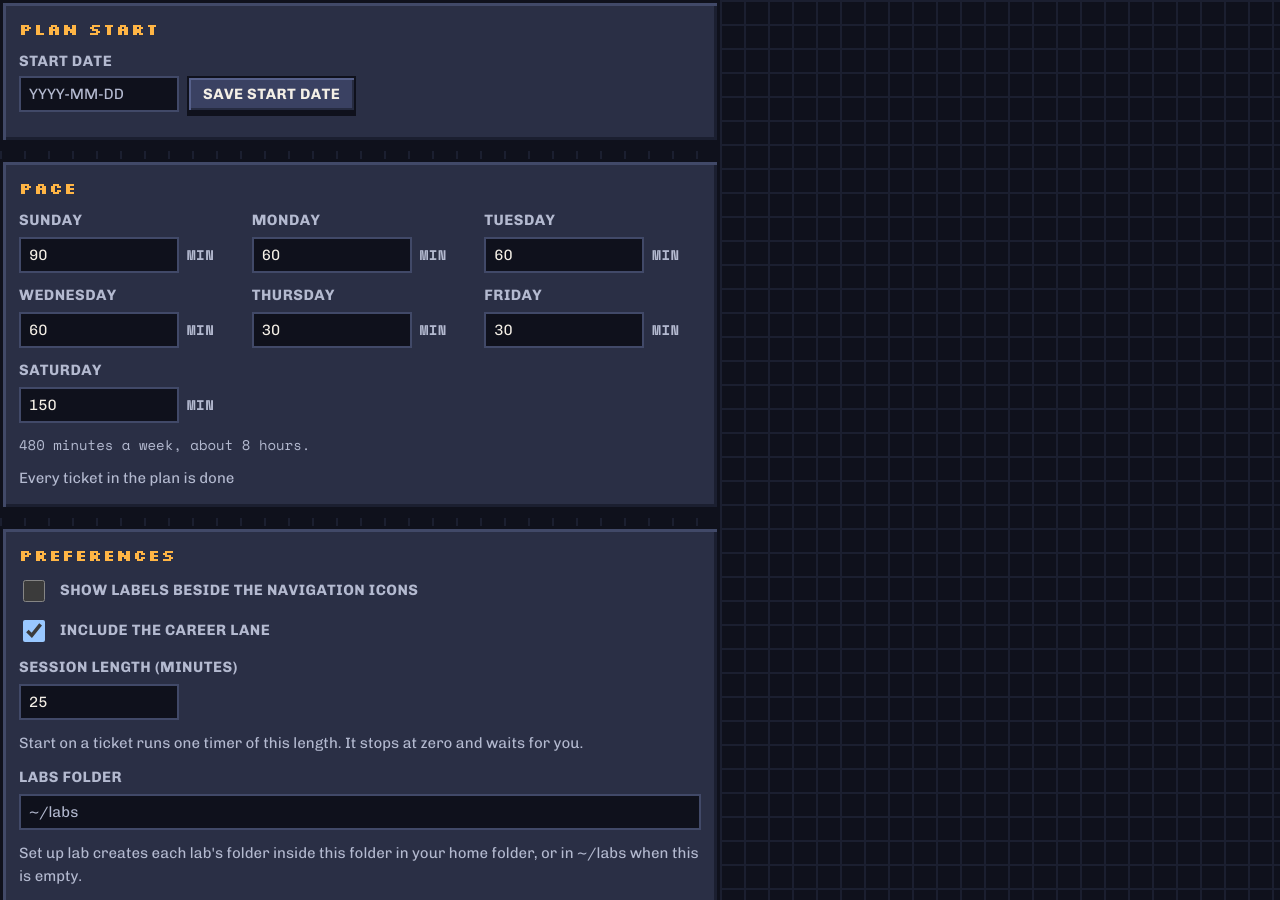
Test: Settings: pace typed key by key (SET-08) › stores nothing while "601" is typed in, though "6" and "60" are valid on the way
This screenshot has width=1280, height=900.
Expected: the element with test id "settings-pace" is shown, [0, 159, 720, 510]
Replace the text in the field with test id "settings-budget-1" with "6": x=332, y=255 [252, 237, 412, 273]
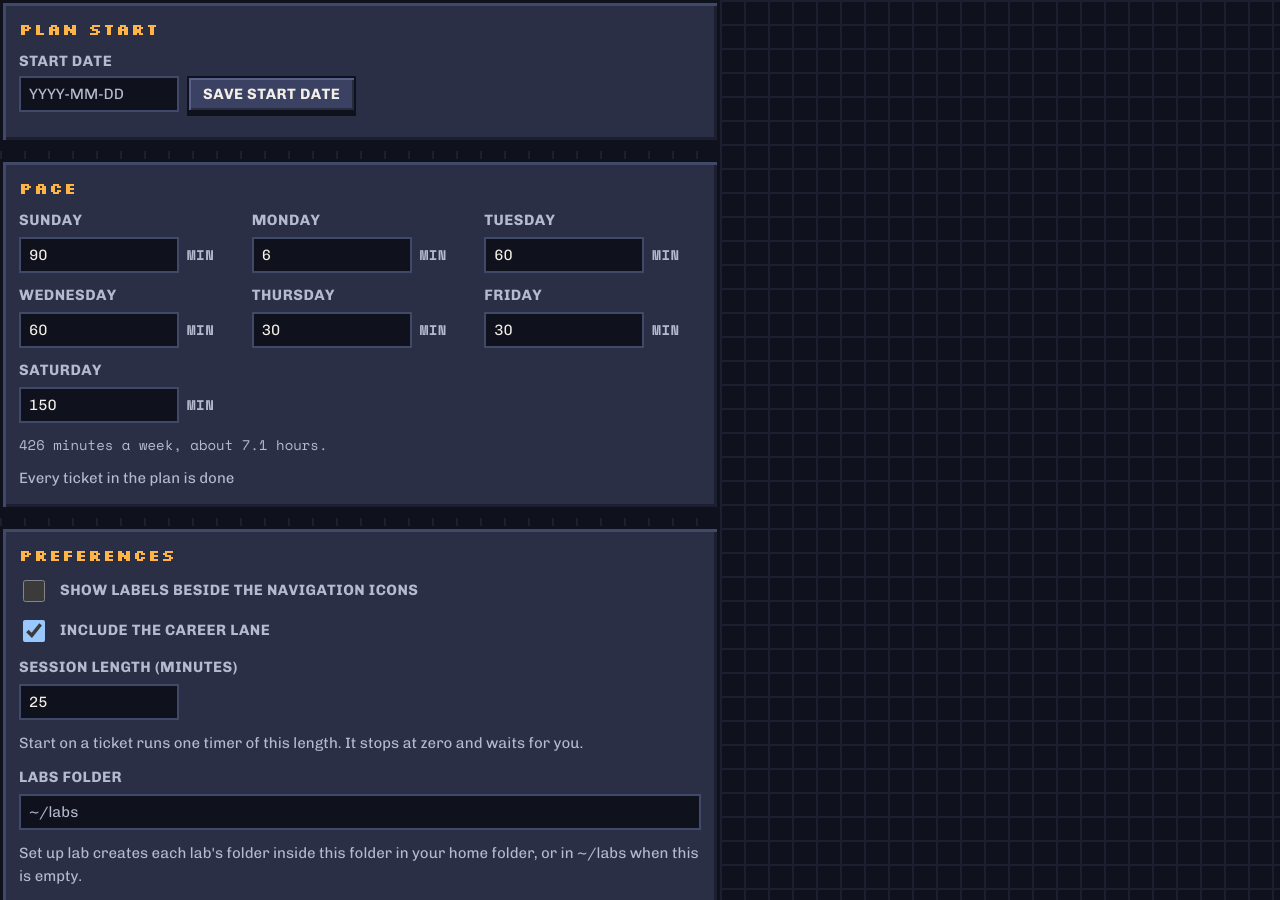
Replace the text in the field with test id "settings-budget-1" with "60": x=332, y=255 [252, 237, 412, 273]
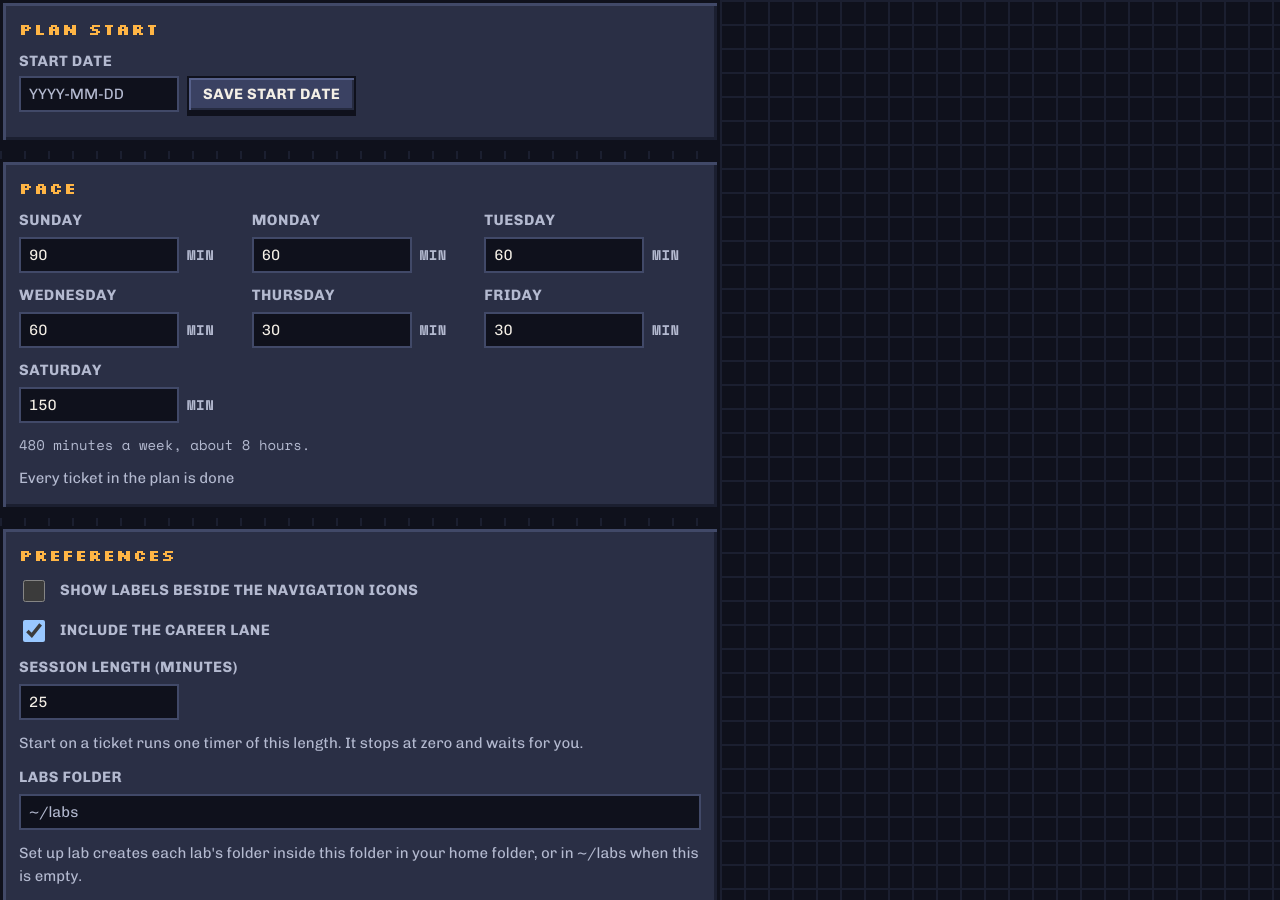
Replace the text in the field with test id "settings-budget-1" with "601": x=332, y=255 [252, 237, 412, 273]
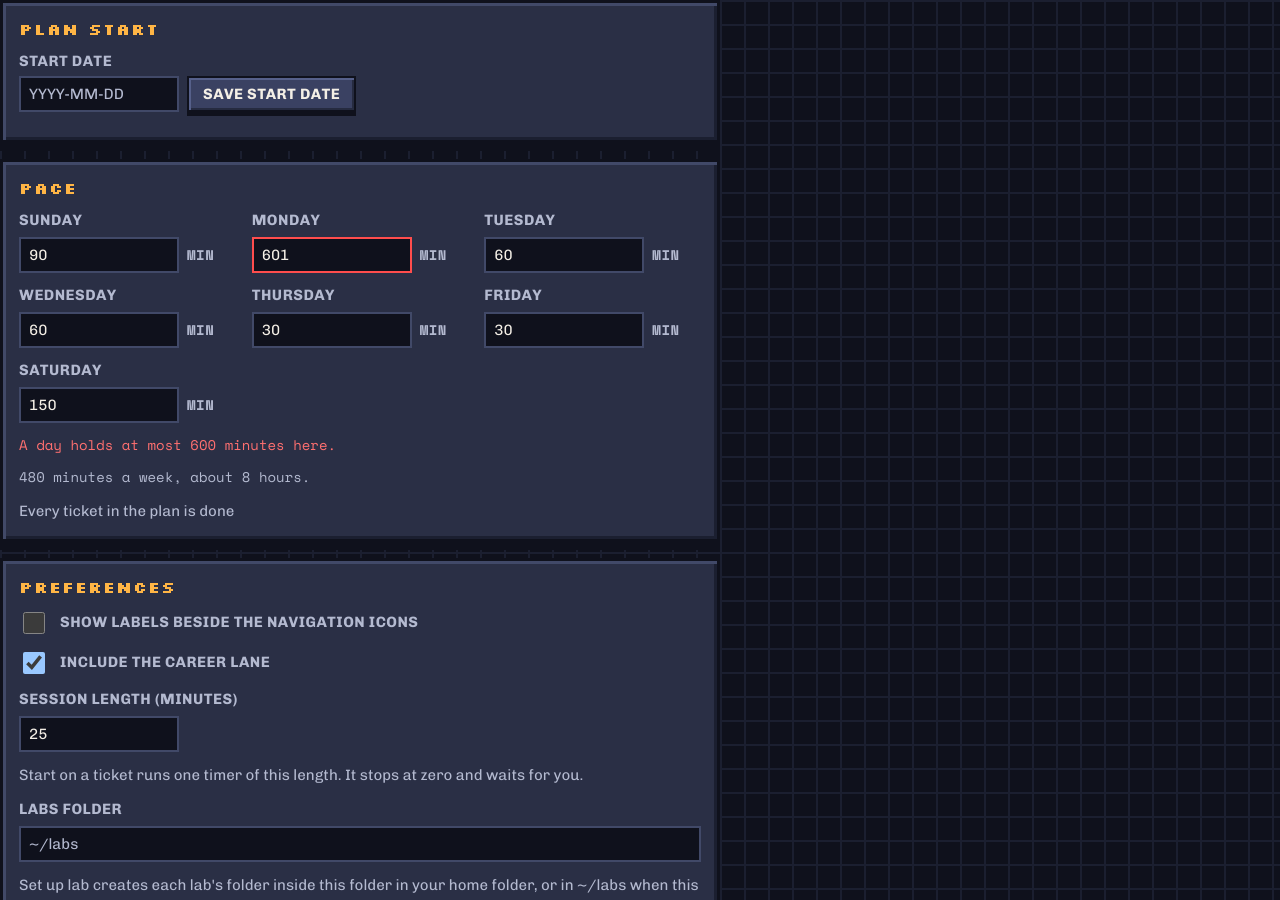
Result: the message "A day holds at most 600 minutes here." is shown at [19, 434, 336, 455]
